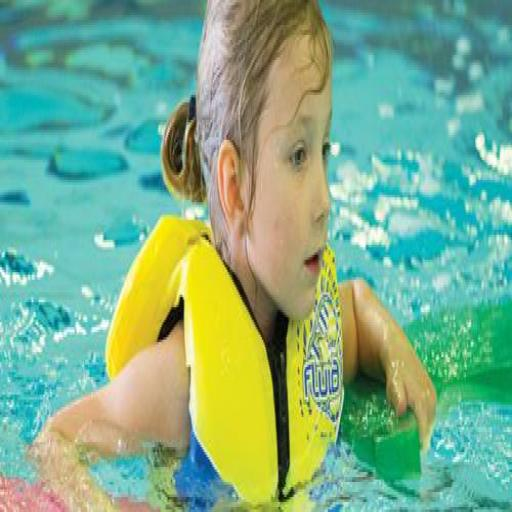swimming: (25, 0, 438, 510)
